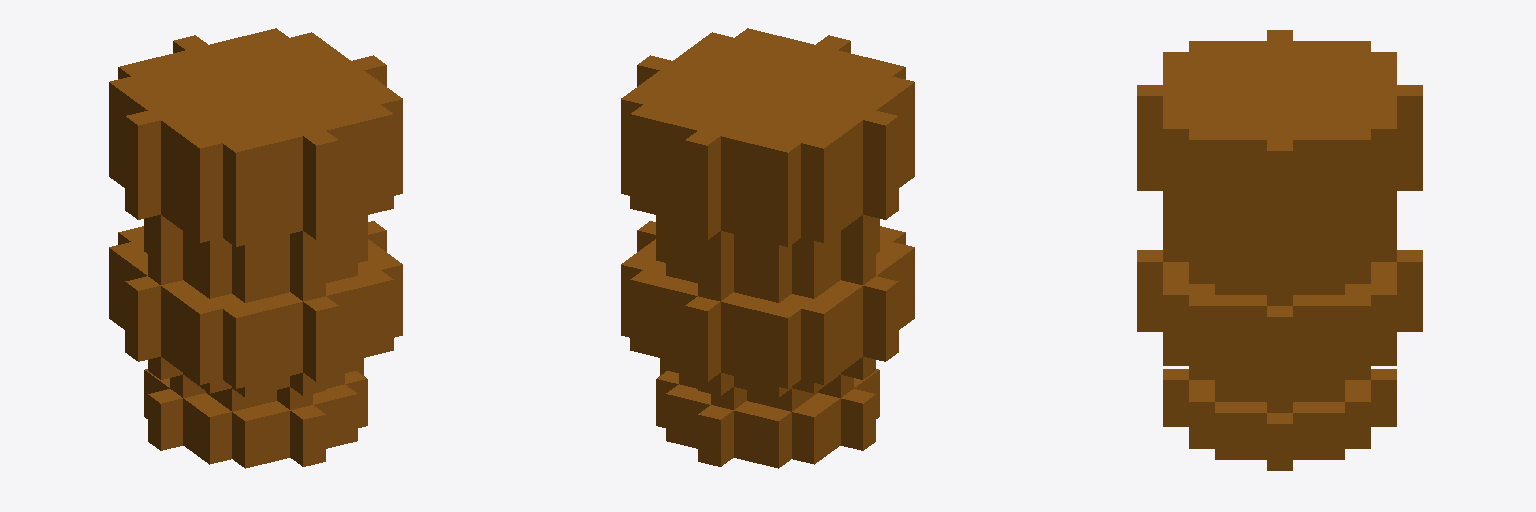
3 views of the same model, side by side, from view 1: azimuth 30°, elevation 25°; view 2: azimuth 150°, elevation 25°; view 3: azimuth 270°, elevation 25° (orthographic).
Size of the model in its own units: 11 by 14 by 11.
1 materials, 1 textured.